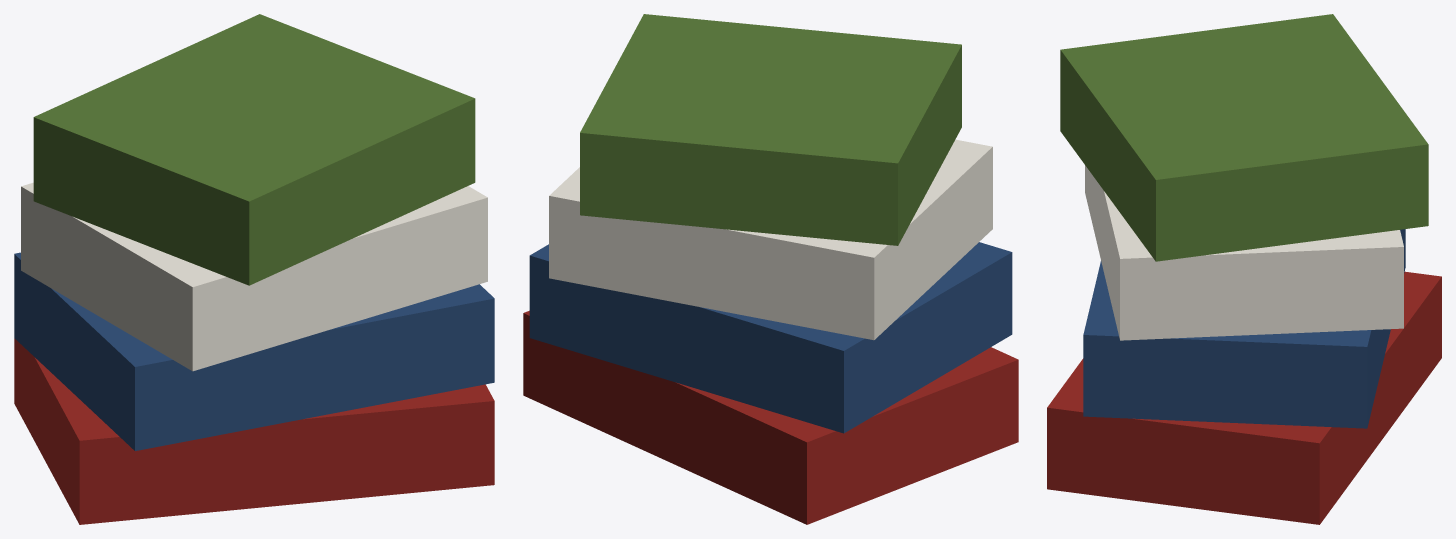
File: library-books-years-overdue.glb
3 views of the same model, side by side, from view 1: azimuth 30°, elevation 25°; view 2: azimuth 150°, elevation 25°; view 3: azimuth 270°, elevation 25° (orthographic). The views are drawn at different scales.
Bounding box in the file's own units: 0.6377 × 0.48 × 0.5256.
